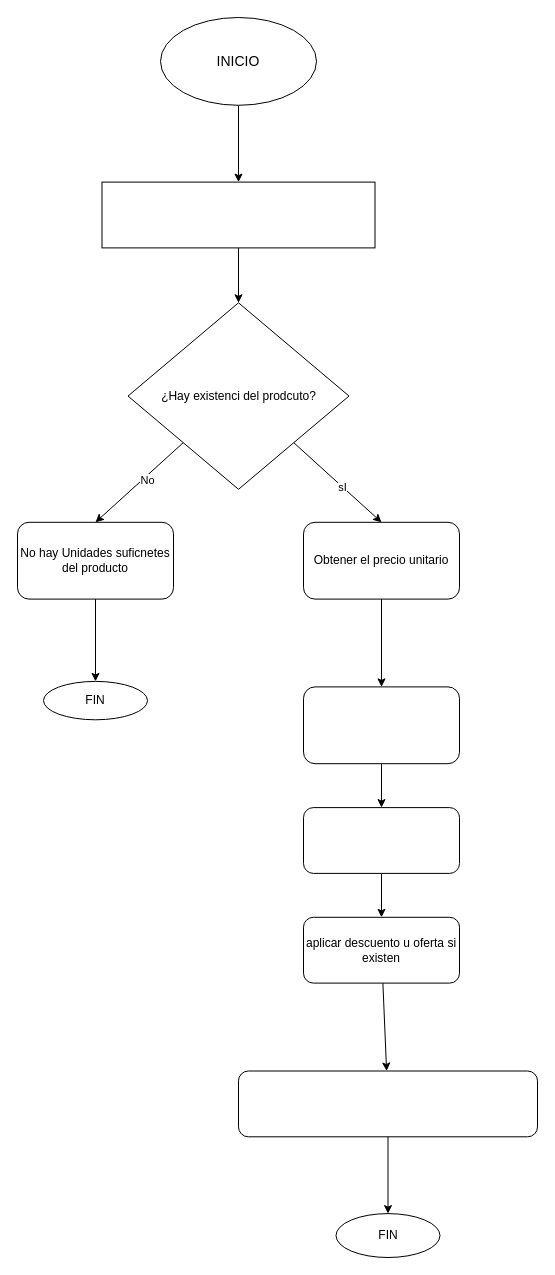
This 555x1275 diagram has some shape labels left out. The centre of each missing label's shape, as x and y in pixels:
"Calcular IVA" belongs at (x=381, y=840).
"Calcular subtotal = precio + unidades" belongs at (x=381, y=725).
"Mostrar total a pagar ( con lista de los costos sumados)" belongs at (x=388, y=1103).
"Seleccionar producto y cantidad a cotizar" belongs at (x=238, y=214).
